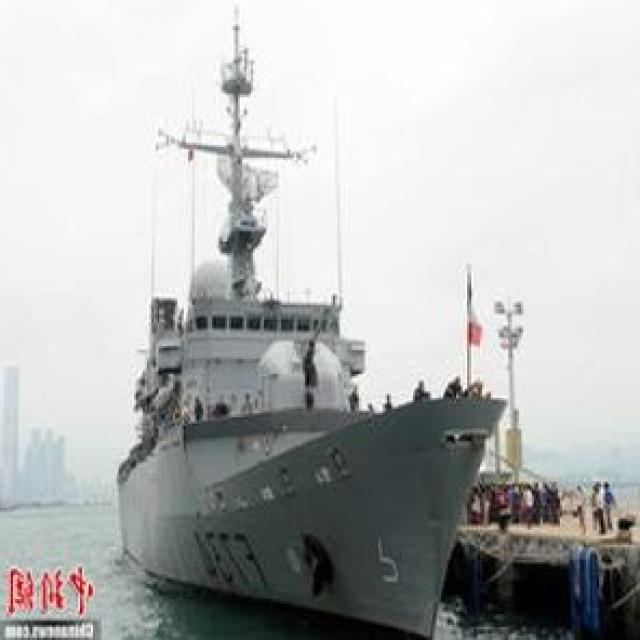navalvessels: (111, 8, 513, 640)
